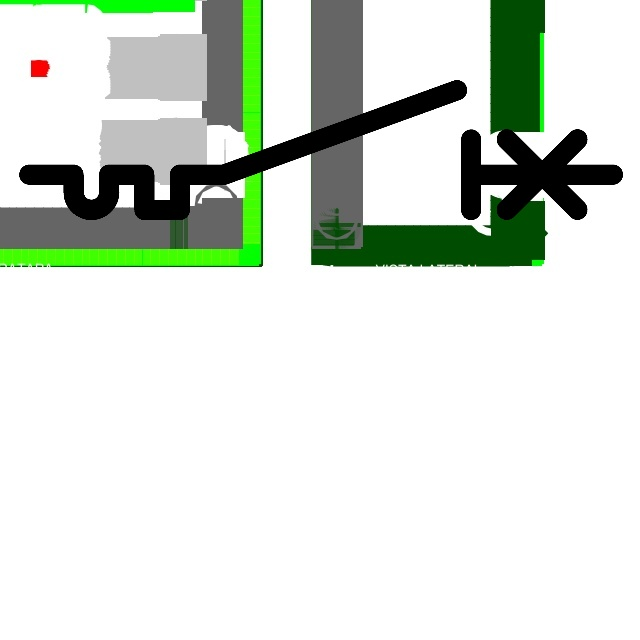interruptor_termomagnetico: (14, 75, 627, 225)
